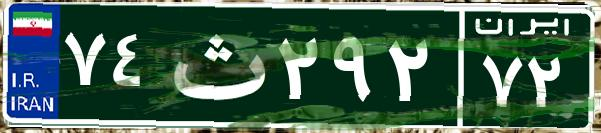2: (385, 28, 445, 110), (273, 28, 330, 110), (525, 38, 570, 115)
4: (110, 28, 158, 105)
7: (57, 26, 110, 107), (475, 38, 525, 113)
9: (330, 28, 385, 110)
ث: (158, 15, 273, 115)
